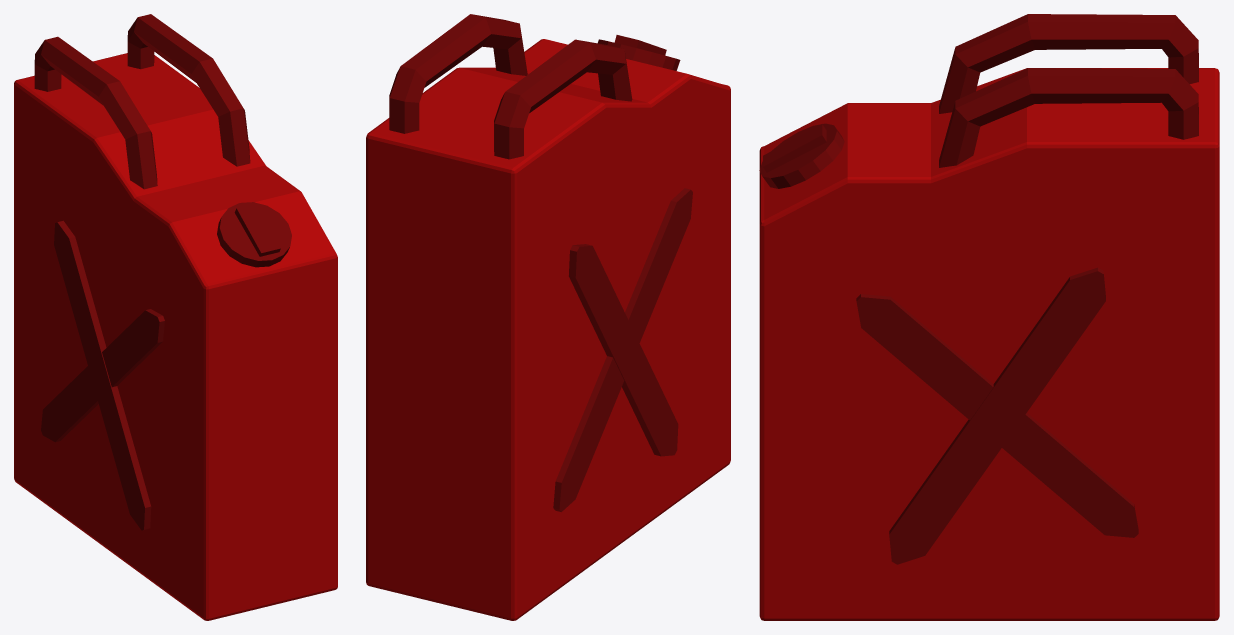
Rendered from GasTank.fbx.
3 views of the same model, side by side, from view 1: azimuth 30°, elevation 25°; view 2: azimuth 150°, elevation 25°; view 3: azimuth 270°, elevation 25° (orthographic). The views are drawn at different scales.
Visible parts, largest first — view 1: GasTank; view 2: GasTank; view 3: GasTank.
Part boxes in pixels (box(x1,y1,x2,y2)): GasTank: box(14, 14, 337, 620); GasTank: box(366, 14, 730, 620); GasTank: box(759, 14, 1219, 620).
Size of the model in its own units: 34.22 by 101 by 78.39.
